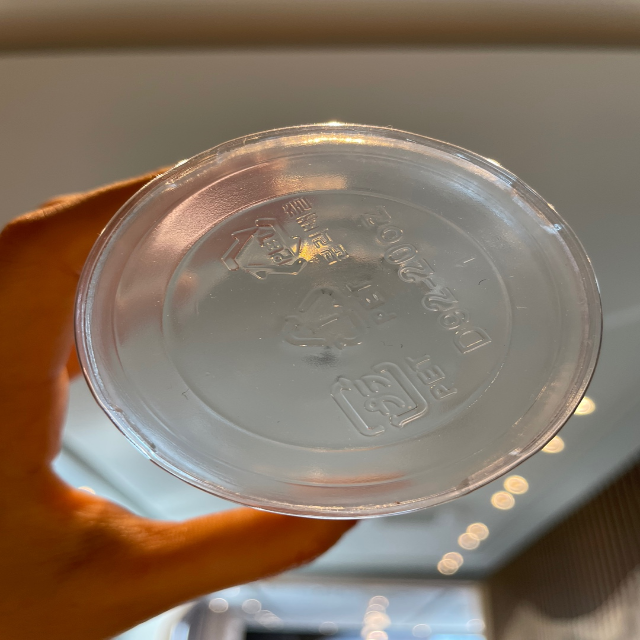pet: (217, 190, 353, 280), (276, 272, 402, 360), (333, 352, 460, 433)
